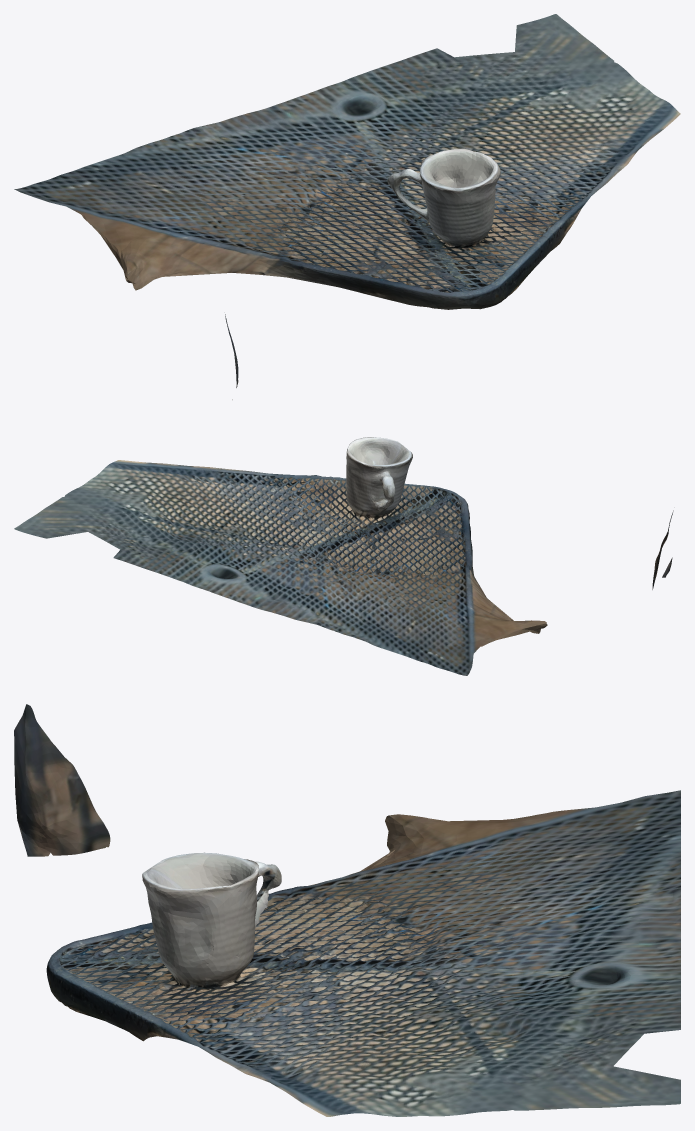
The picture shows the model from 3 angles, top to bottom: view 1: azimuth 30°, elevation 25°; view 2: azimuth 150°, elevation 25°; view 3: azimuth 270°, elevation 25°; orthographic projection. The views are drawn at different scales.
Size of the model in its own units: 2.35 by 0.5218 by 1.7.
Materials: 1 (1 with a texture image).
